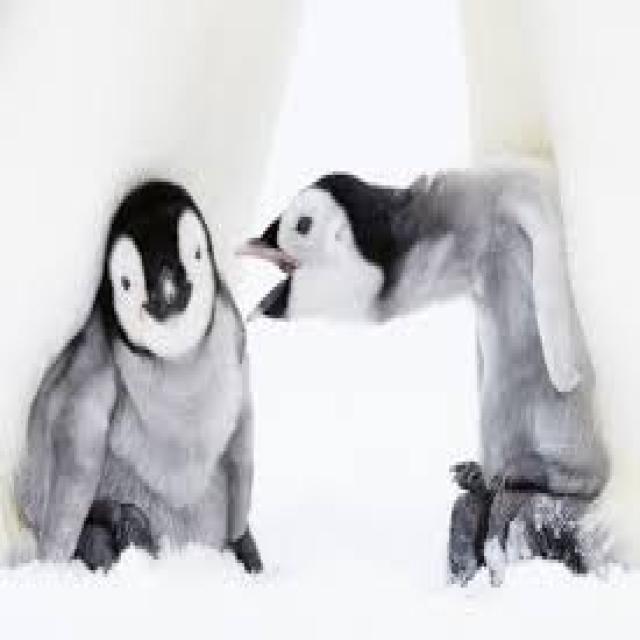penguin: (247, 168, 607, 577), (19, 178, 261, 570)
